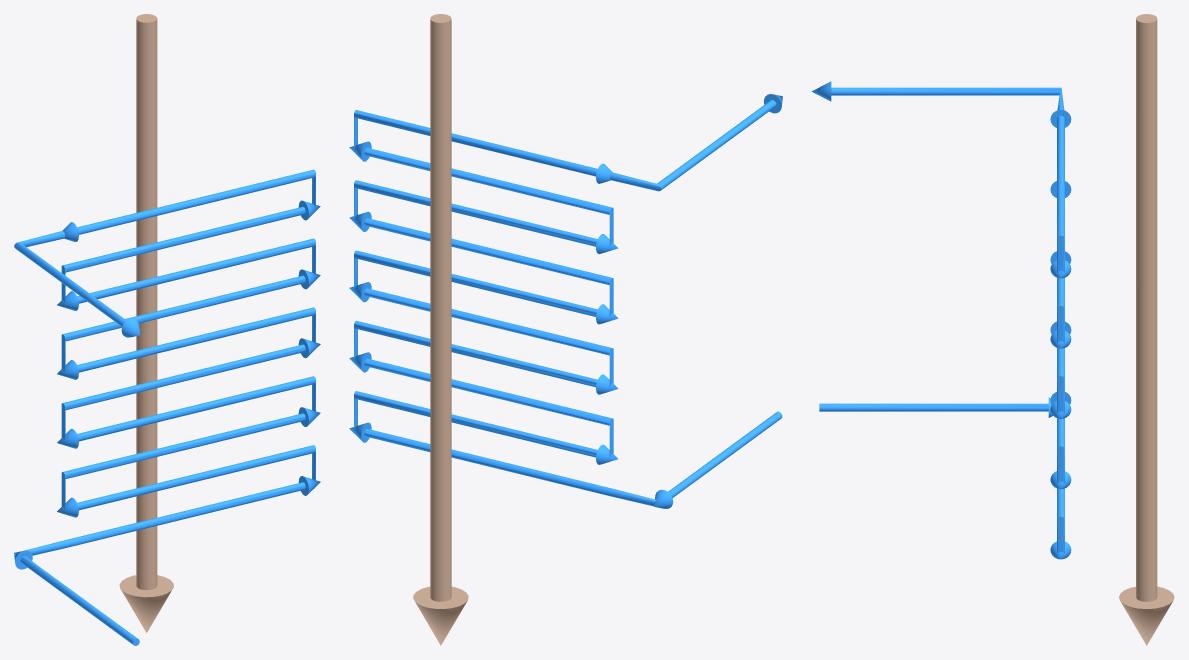
Rendered from economizer_flow.glb.
3 renders of one model, left to right at view 1: azimuth 30°, elevation 25°; view 2: azimuth 150°, elevation 25°; view 3: azimuth 270°, elevation 25°, orthographic. The views are drawn at different scales.
Parts seen in each view (by area): view 1: water, flue_gas; view 2: water, flue_gas; view 3: flue_gas, water.
Boxes of the visible parts, box(x1,y1,x2,y2) form: water: box(14, 169, 320, 645); flue_gas: box(119, 14, 173, 632); water: box(349, 94, 782, 508); flue_gas: box(413, 14, 468, 645); flue_gas: box(1119, 14, 1174, 645); water: box(811, 81, 1071, 559).
Size of the model in its own units: 1.37 by 2.58 by 1.35.
